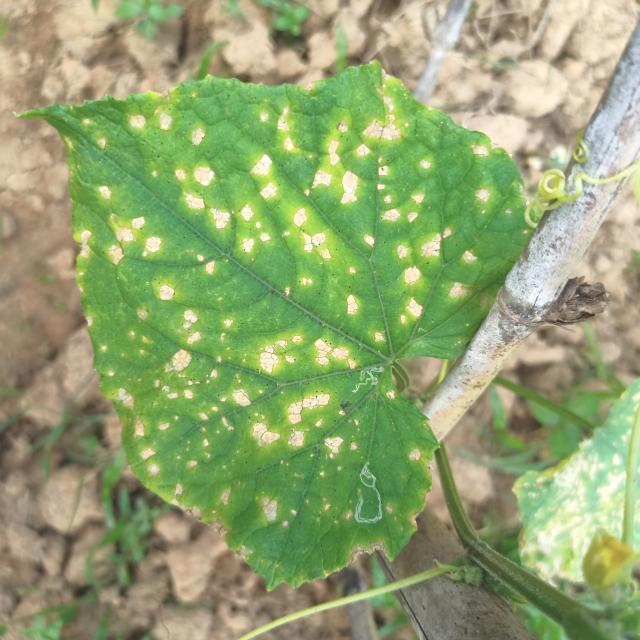disease_cucumber: (88, 80, 484, 539)
